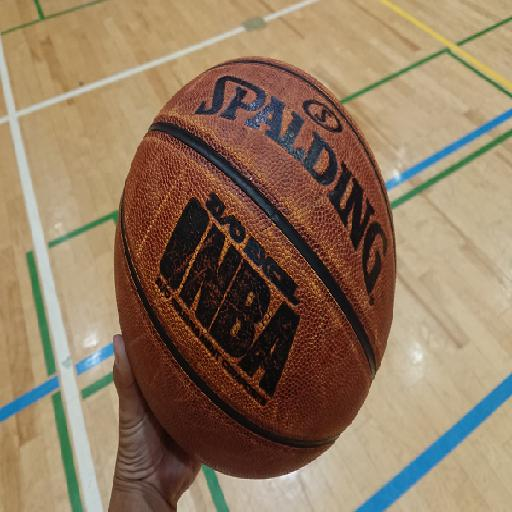ball: (115, 58, 397, 480)
